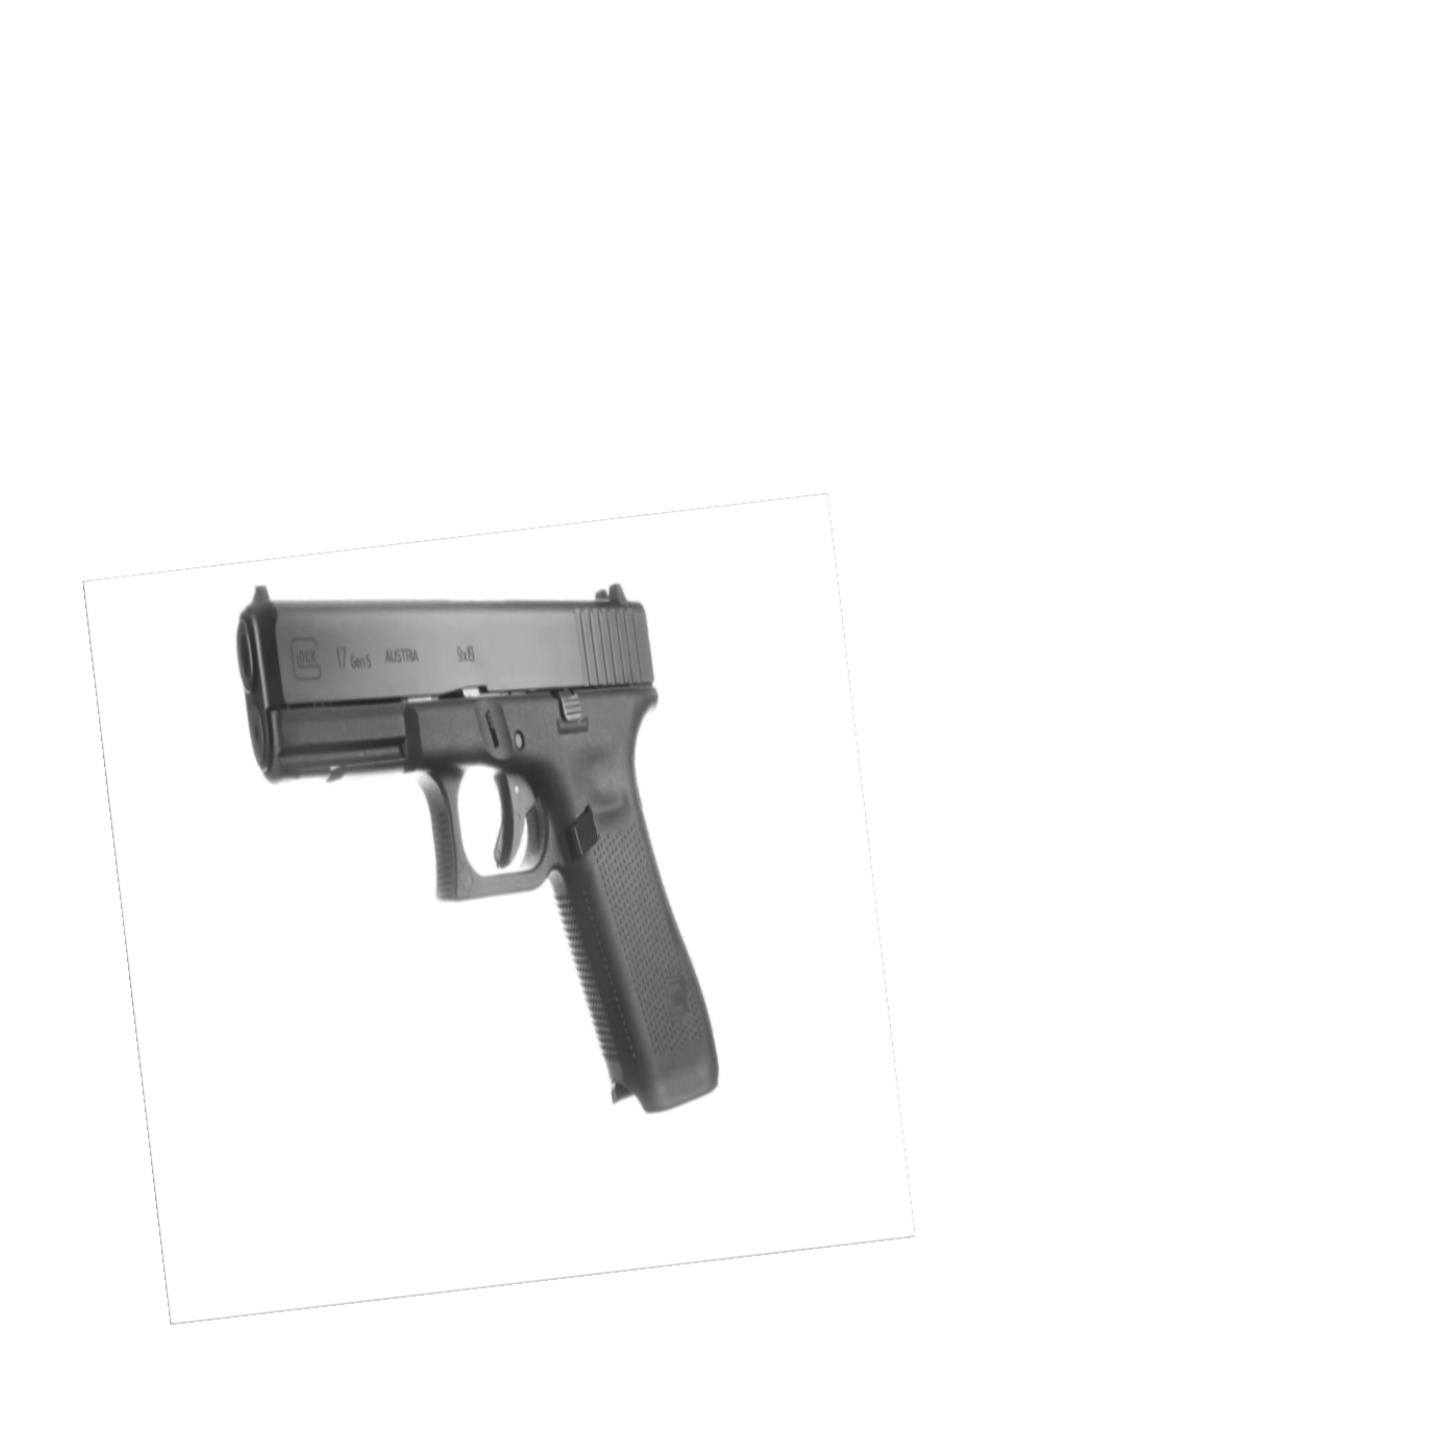gun: (226, 575, 730, 1115)
